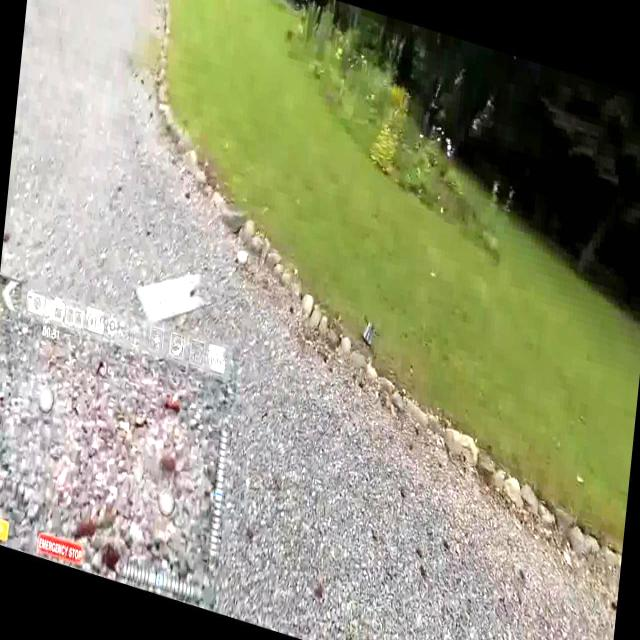drone: (357, 304, 383, 352)
